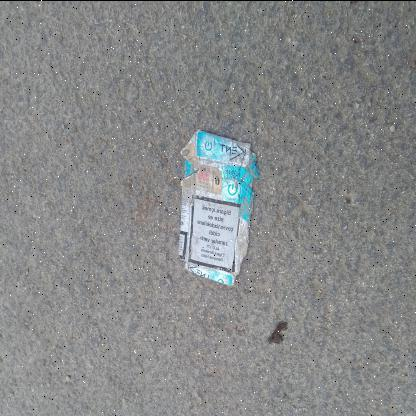cardboard: (180, 128, 260, 286)
